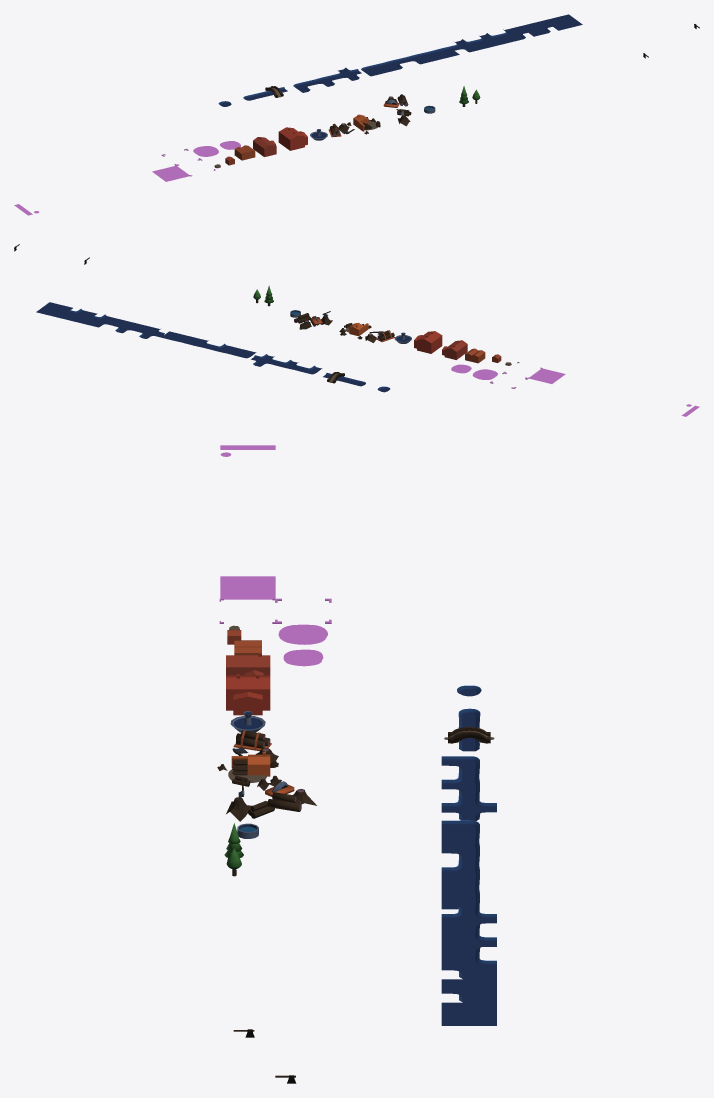
File: models.glb
The picture shows the model from 3 angles, top to bottom: view 1: azimuth 30°, elevation 25°; view 2: azimuth 150°, elevation 25°; view 3: azimuth 270°, elevation 25°; orthographic projection. The views are drawn at different scales.
Parts seen in each view (by area): view 1: house.003, house.002, tile_bg, water_Full, sawmill.001, water_X_fill_3; view 2: house.003, house.002, tile_bg, water_Full, water_X_fill_3, sawmill.001, sawmill.002, water_X_fill_2O; view 3: house.003, sawmill.001, water_Full, tile_bg, water_X_fill_3, water_X_fill_2O, water_X_fill_2H, sawmill.002, water_X_fill_1, water_T_fill.
Part boxes in pixels (x1,y1,x2,y2): house.003: (278,127,307,150); house.002: (253,137,276,156); tile_bg: (152,165,189,181); water_Full: (544,14,582,30); sawmill.001: (346,114,380,134); water_X_fill_3: (520,20,552,36); house.003: (414,331,442,353); house.002: (442,340,467,359); tile_bg: (529,368,565,383); water_Full: (36,302,72,317); water_X_fill_3: (60,309,97,323); sawmill.001: (339,322,371,339); sawmill.002: (14,244,322,329); water_X_fill_2O: (84,314,120,327); house.003: (226,674,270,715); sawmill.001: (217,751,281,790); water_Full: (441,1002,496,1025); tile_bg: (220,576,275,599); water_X_fill_3: (441,979,496,1002); water_X_fill_2O: (441,953,496,979); water_X_fill_2H: (441,930,496,955); sawmill.002: (265,781,316,1083); water_X_fill_1: (441,907,496,932); water_T_fill: (441,883,479,909).
Bounding box in the file's own units: 111 × 3.9 × 20.25.
Materials: 1 (1 with a texture image).
